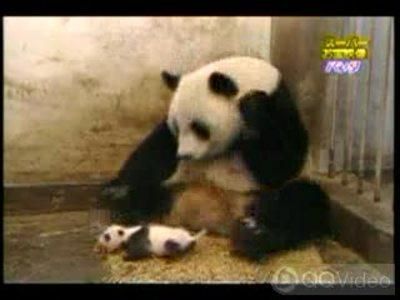panda: (117, 52, 333, 262), (94, 218, 200, 261)
